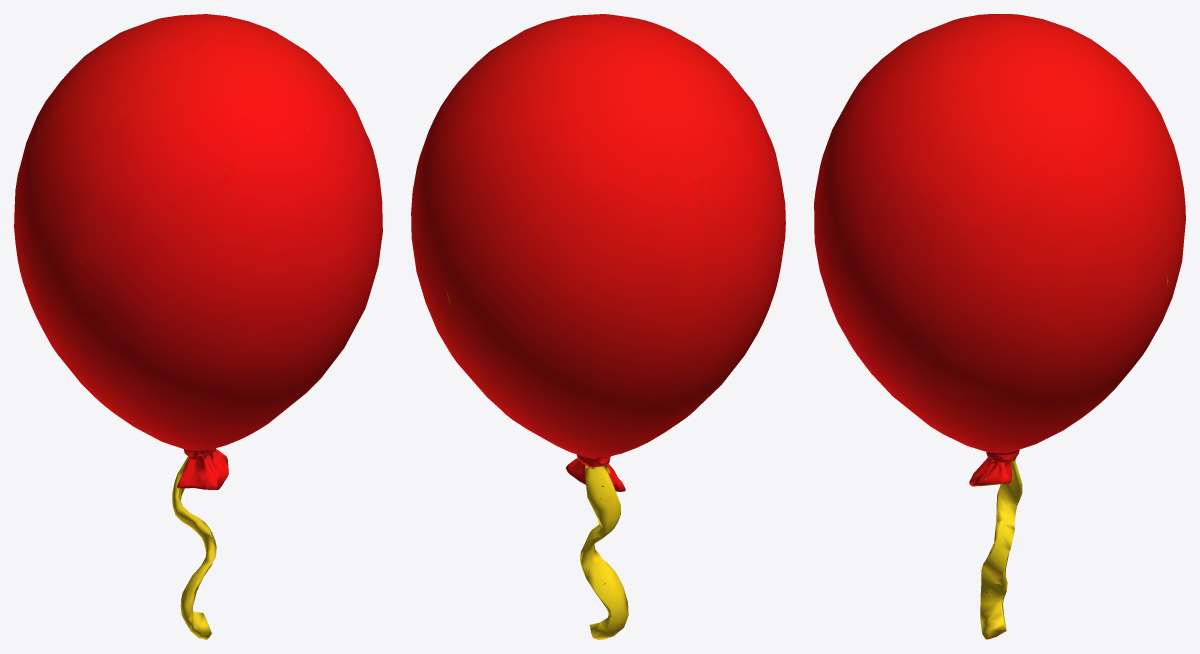
File: balloons.glb
The picture shows the model from 3 angles, left to right: view 1: azimuth 30°, elevation 25°; view 2: azimuth 150°, elevation 25°; view 3: azimuth 270°, elevation 25°; orthographic projection.
Size of the model in its own units: 1.05 by 1.9 by 1.05.
1 material, 1 textured.
